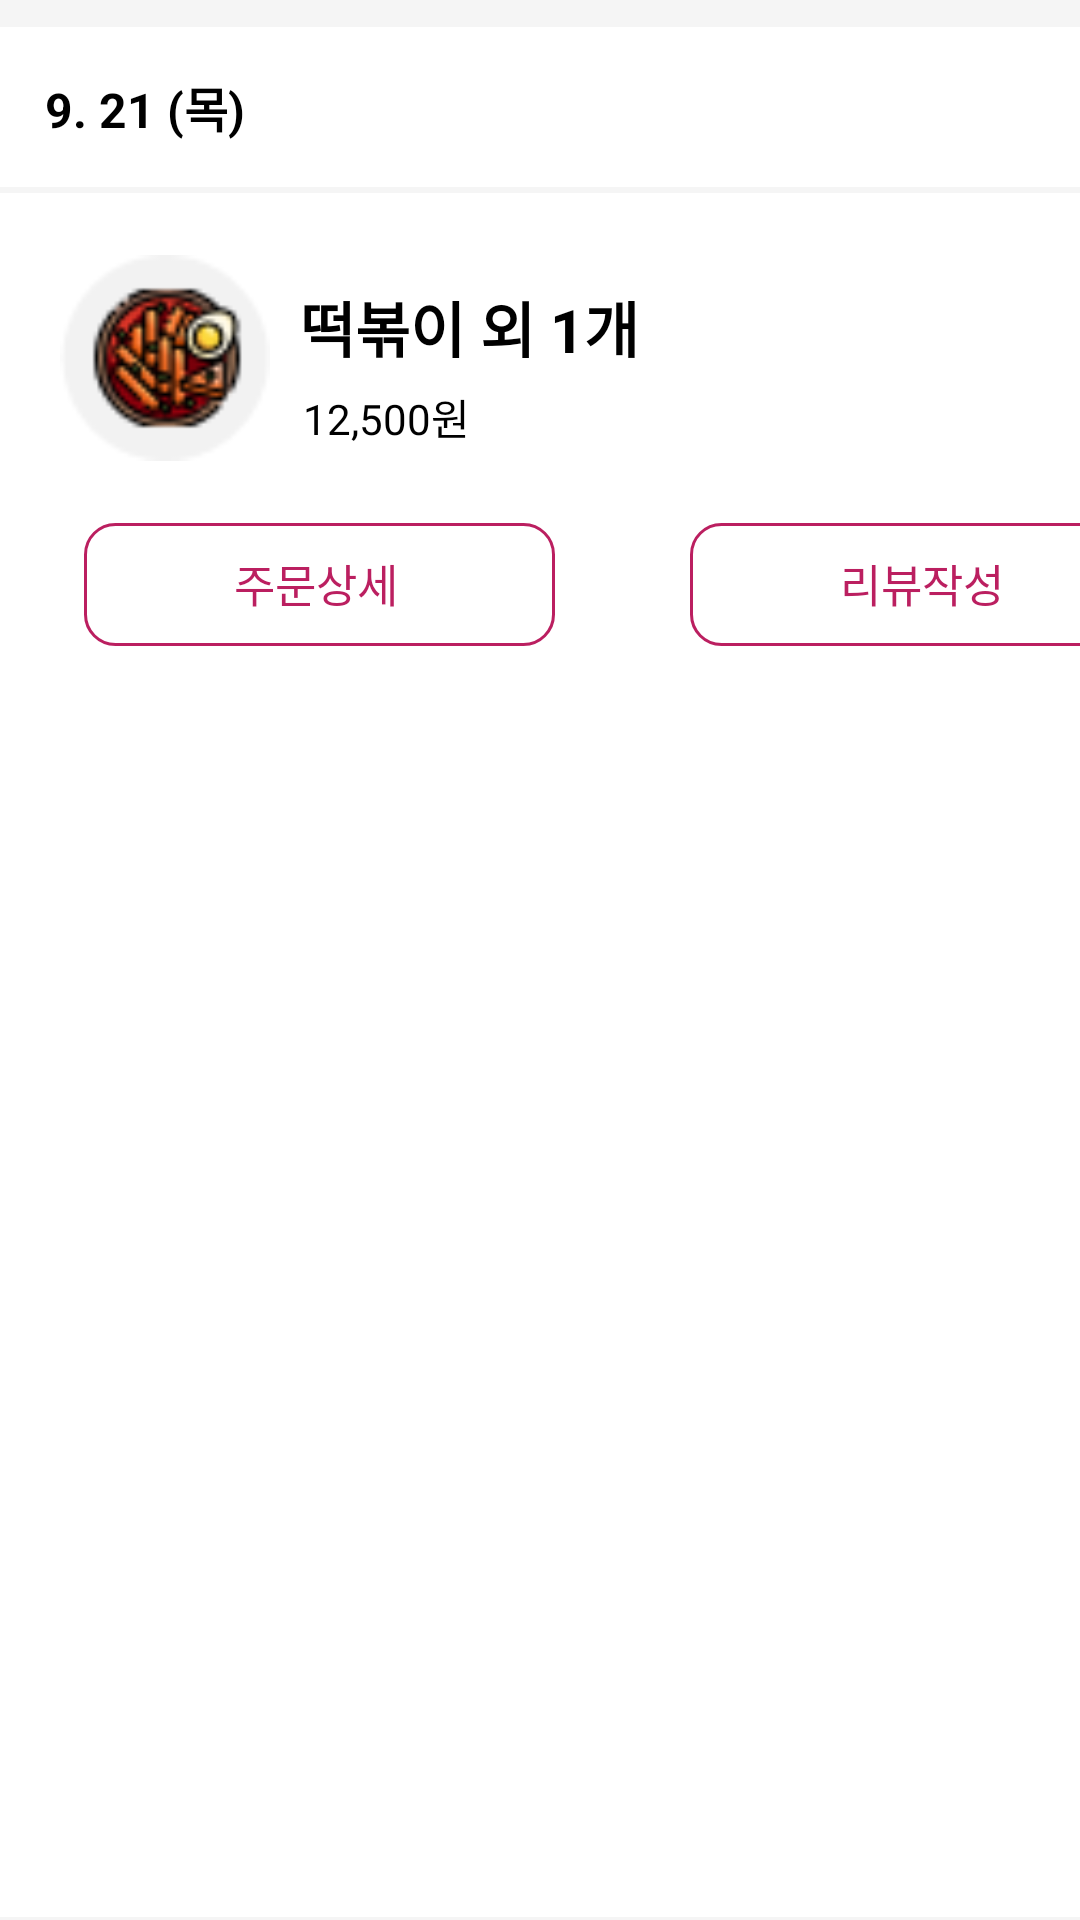

Icon click points for this 1080 x 1920 phone screenshot, format [x,y]:
boonsik: [167,358]
